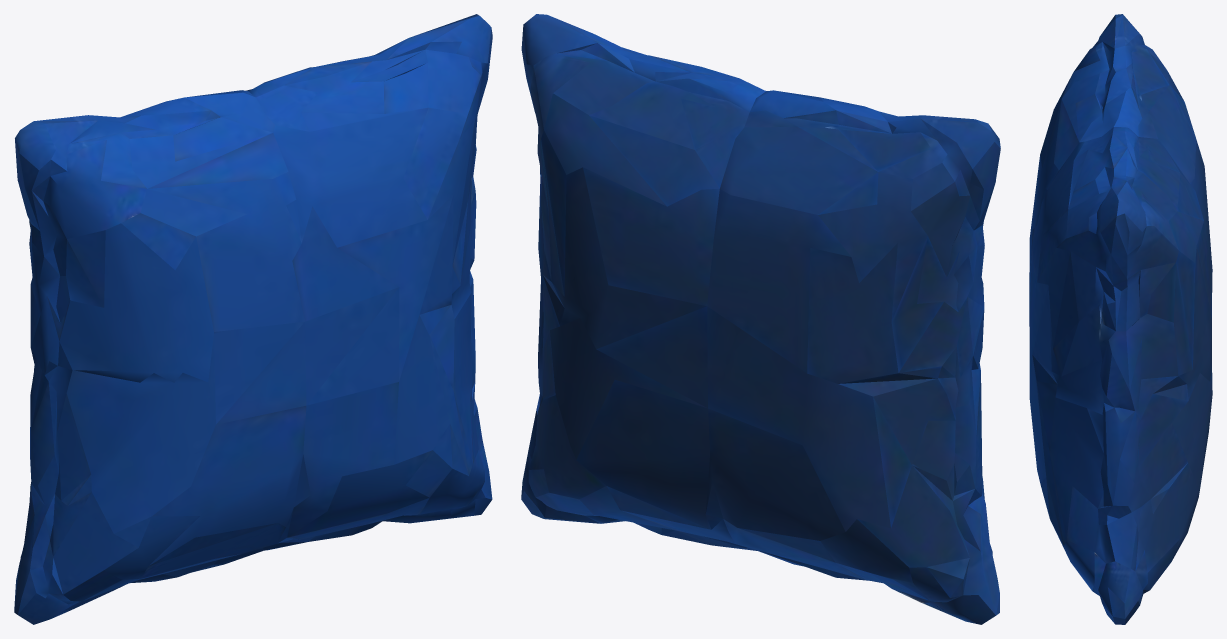
The model's file is bag.glb.
3 views of the same model, side by side, from view 1: azimuth 30°, elevation 25°; view 2: azimuth 150°, elevation 25°; view 3: azimuth 270°, elevation 25° (orthographic). The views are drawn at different scales.
Bounding box in the file's own units: 1.88 × 1.89 × 0.7376.
Materials: 1 (1 with a texture image).
